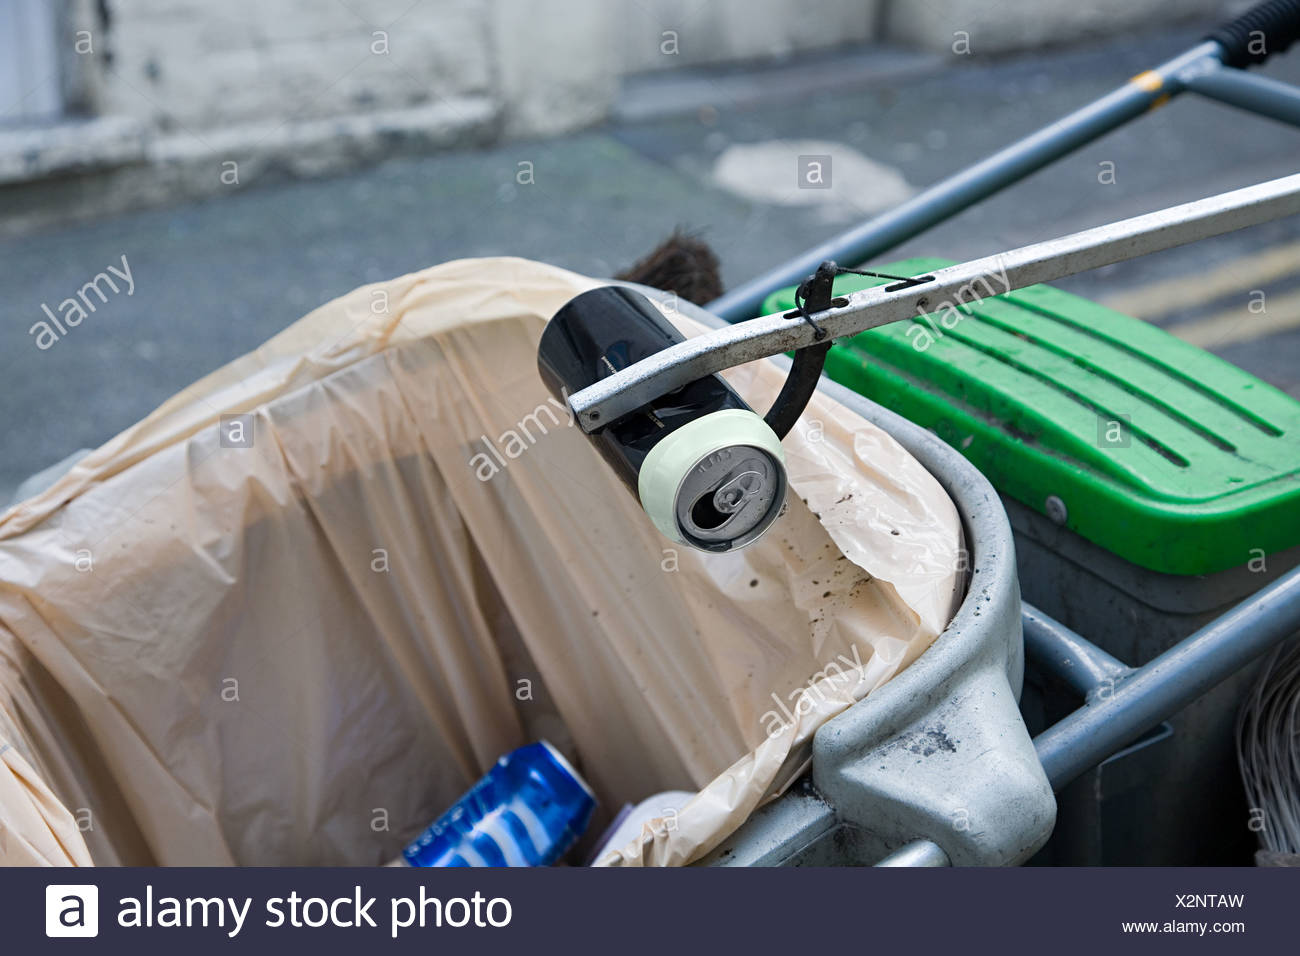can: (533, 283, 795, 560), (366, 738, 605, 865)
